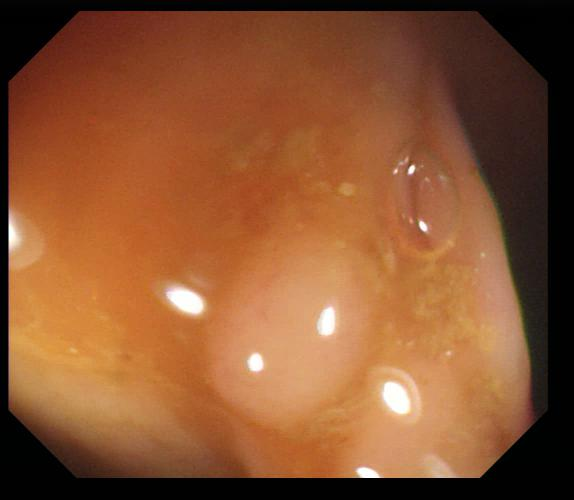polyp: (203, 220, 385, 436)
